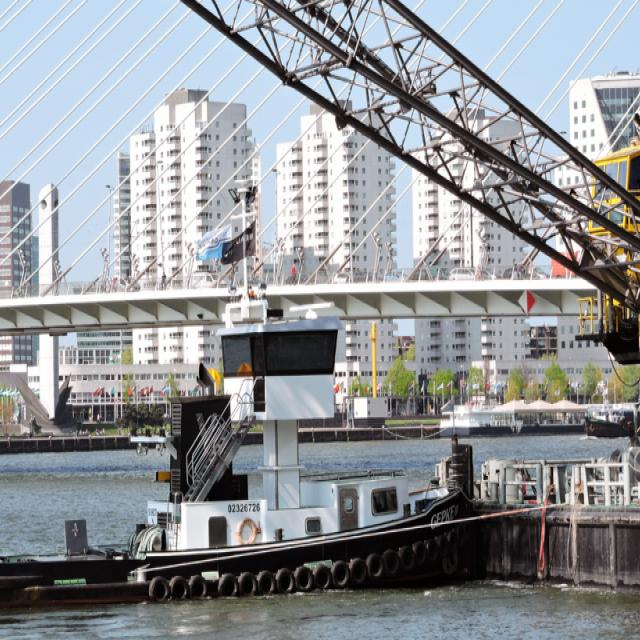tugboat: (1, 311, 513, 627)
